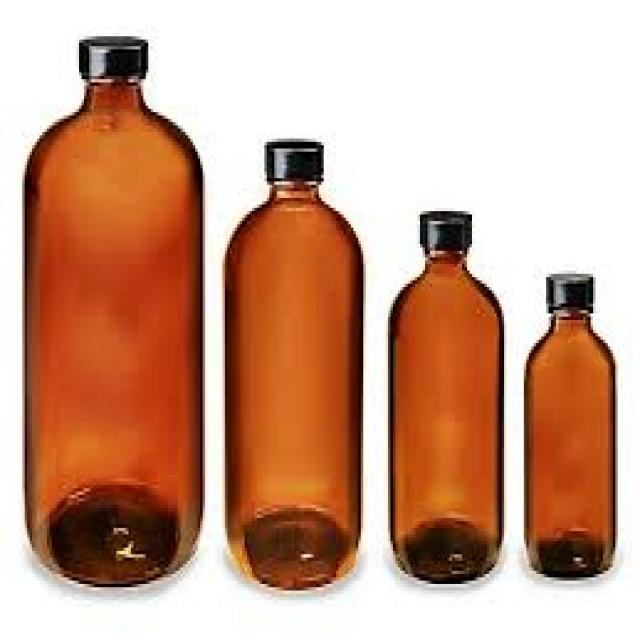Glass: (20, 29, 206, 592), (218, 139, 368, 600), (385, 206, 503, 589), (524, 271, 615, 581)
